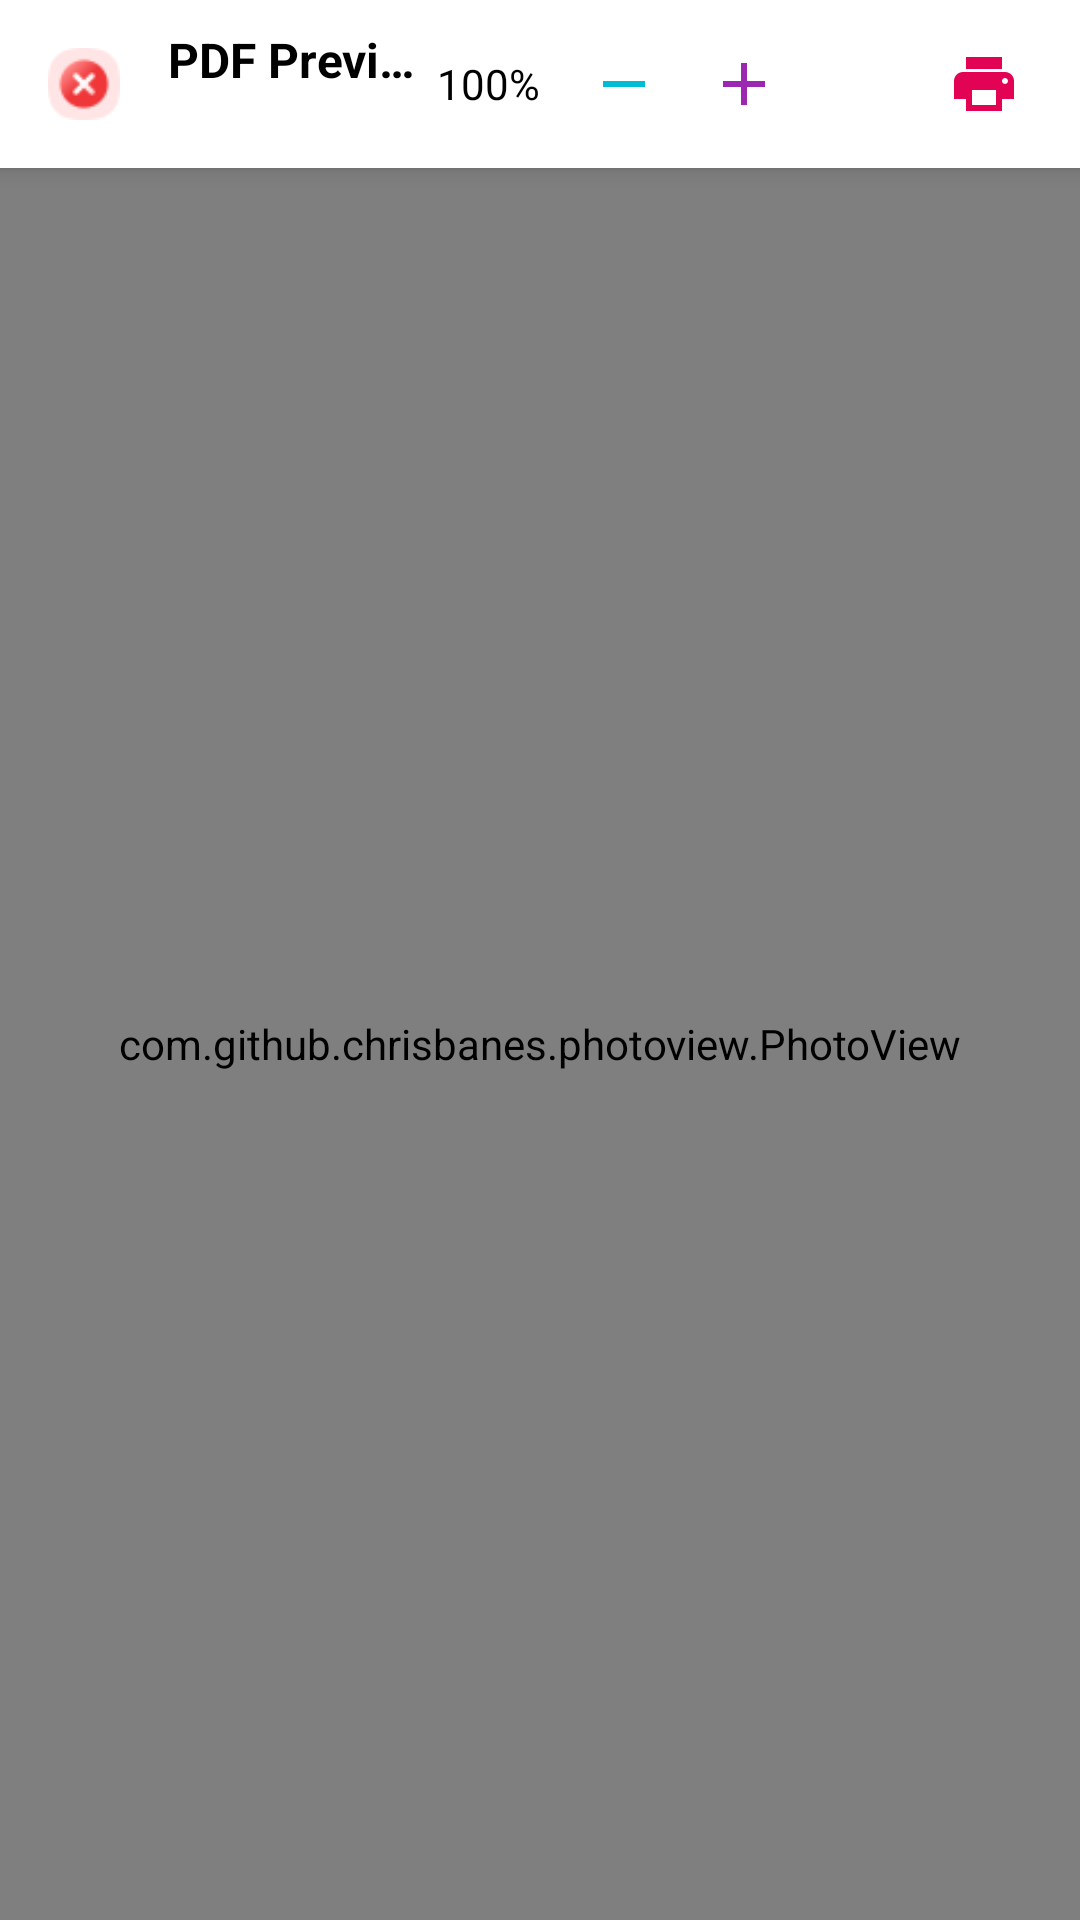

Point at icon controls on the screen. Image size 1080 x 1920, points as (x,y).
Close: (84,84)
Print PDF: (984,84)
Zoom In: (744,84)
